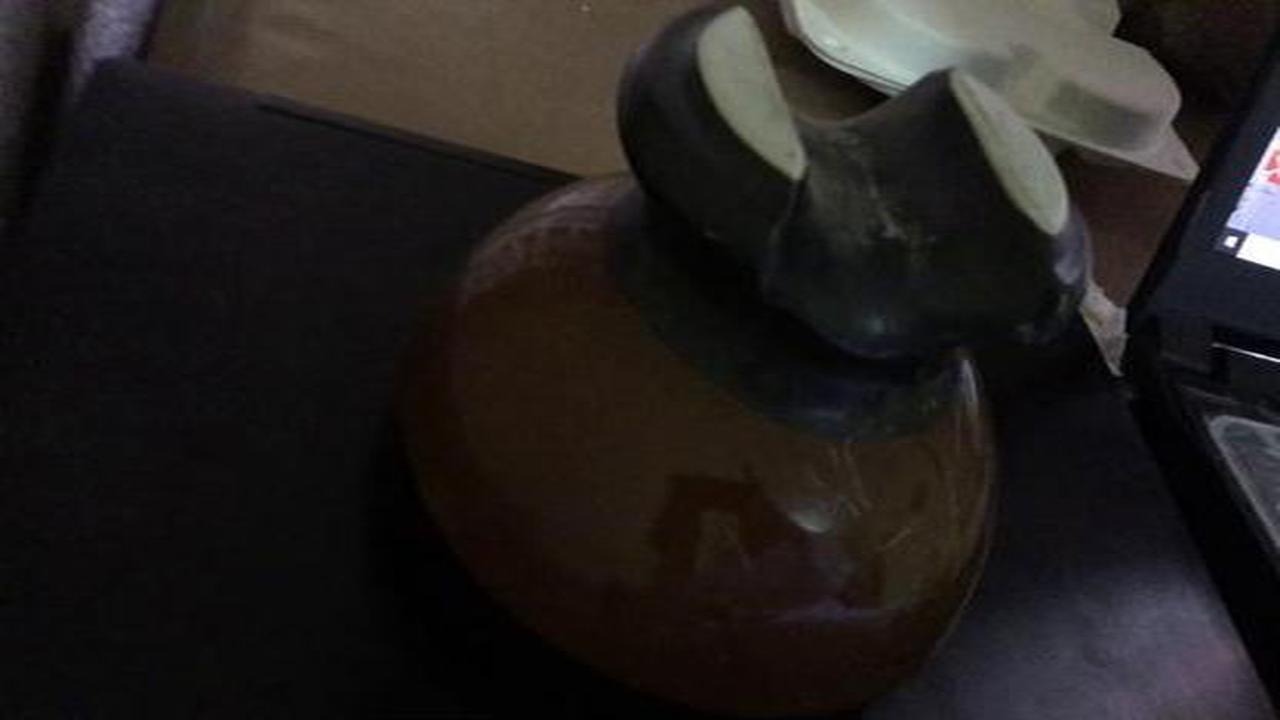insulator_pin: (373, 11, 1117, 707)
